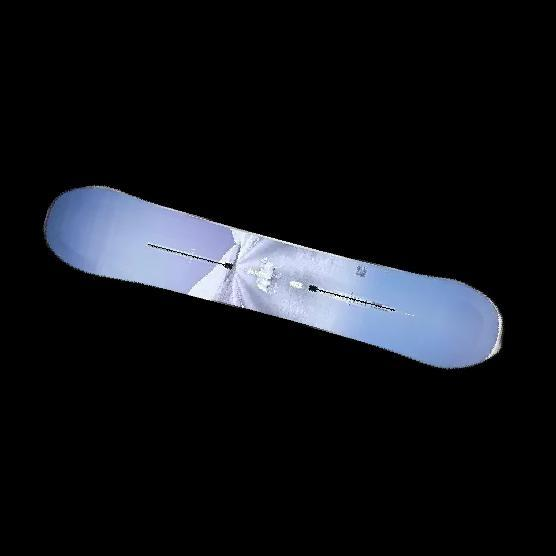Snowboard: (35, 175, 516, 389)
